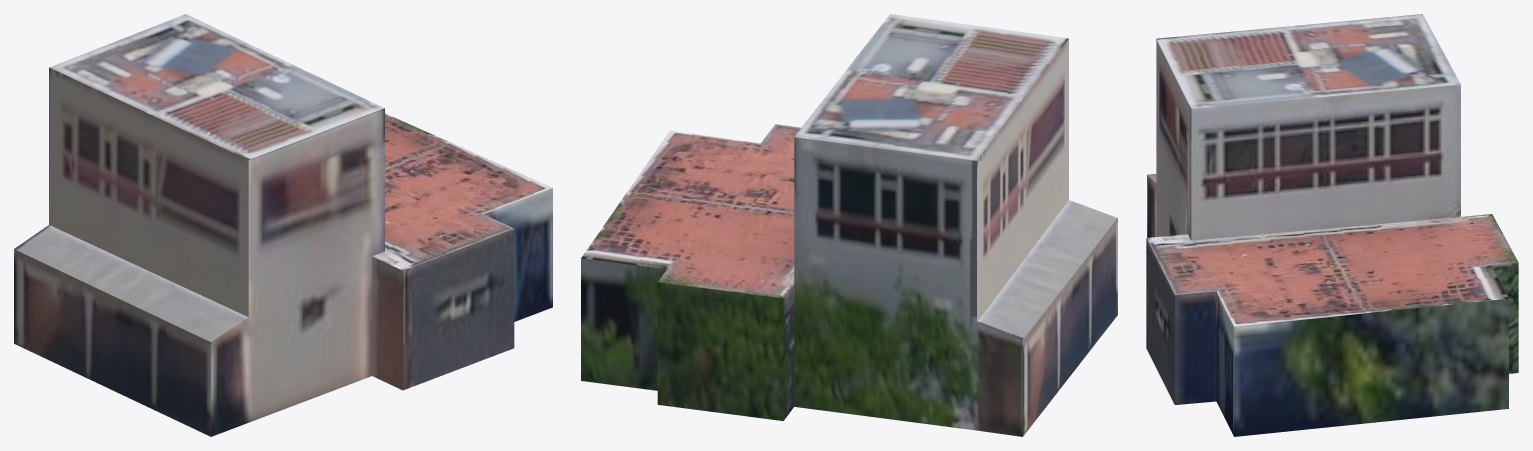
3 views of the same model, side by side, from view 1: azimuth 30°, elevation 25°; view 2: azimuth 150°, elevation 25°; view 3: azimuth 270°, elevation 25° (orthographic). The views are drawn at different scales.
Visible parts, largest first — view 1: B294504029601062A0; view 2: B294504029601062A0; view 3: B294504029601062A0.
Boxes of the visible parts, box(x1,y1,x2,y2) form: B294504029601062A0: box(14, 14, 552, 436); B294504029601062A0: box(581, 14, 1117, 436); B294504029601062A0: box(1146, 14, 1518, 436).
Size of the model in its own units: 14.31 by 8.14 by 11.34.
Materials: 1 (1 with a texture image).
